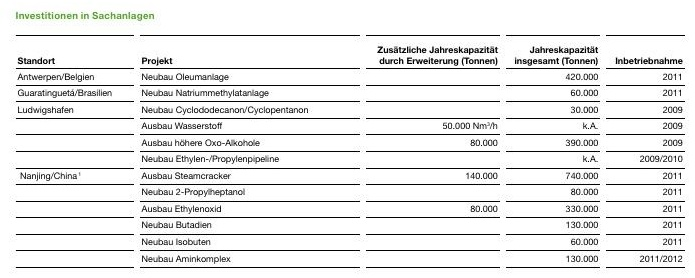table: (0, 0, 695, 278)
